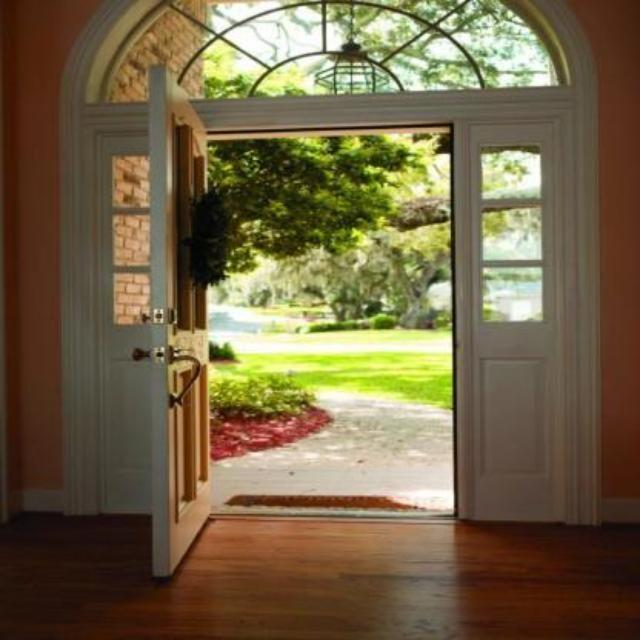door: (140, 64, 216, 594)
